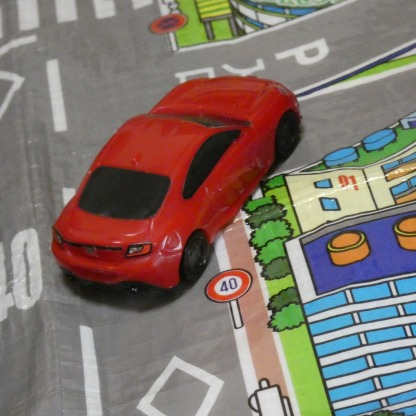car: (47, 73, 304, 293)
